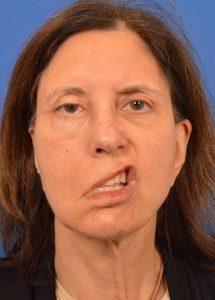strokeEyeMid: (42, 81, 163, 122)
strokeMouthSevere: (68, 158, 145, 204)
